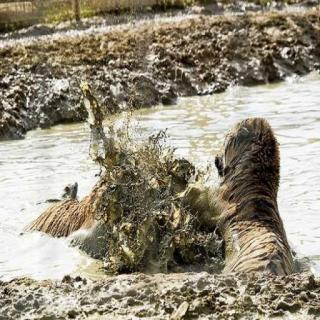Tiger: (197, 115, 297, 297)
